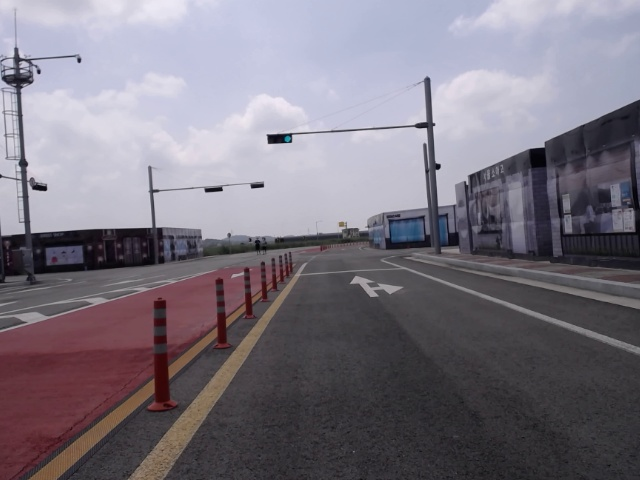green_3: (267, 134, 293, 144)
